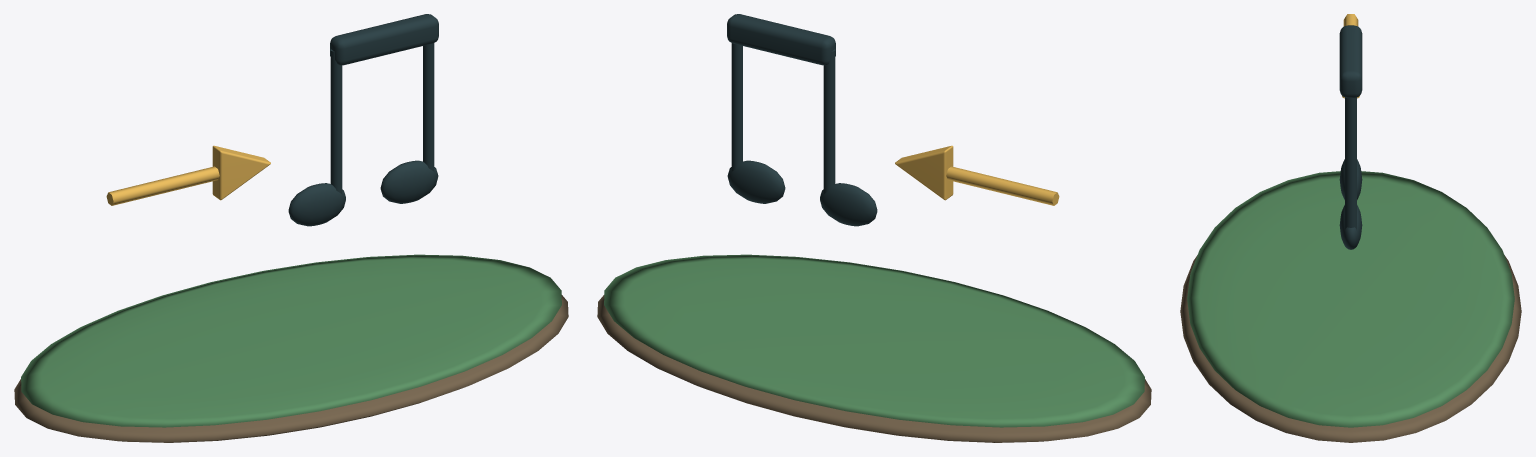
File: quick-music.glb
The picture shows the model from 3 angles, left to right: view 1: azimuth 30°, elevation 25°; view 2: azimuth 150°, elevation 25°; view 3: azimuth 270°, elevation 25°; orthographic projection.
Visible parts, largest first — view 1: quick-music_surface_01, quick-music_surface_03, quick-music_surface_00, quick-music_surface_02; view 2: quick-music_surface_01, quick-music_surface_03, quick-music_surface_00, quick-music_surface_02; view 3: quick-music_surface_01, quick-music_surface_00, quick-music_surface_03.
Part boxes in pixels (bbox=[...]): quick-music_surface_01: bbox=[21, 254, 561, 427]; quick-music_surface_03: bbox=[288, 14, 438, 226]; quick-music_surface_00: bbox=[14, 295, 568, 442]; quick-music_surface_02: bbox=[106, 145, 270, 205]; quick-music_surface_01: bbox=[604, 254, 1144, 427]; quick-music_surface_03: bbox=[727, 14, 877, 226]; quick-music_surface_00: bbox=[597, 295, 1151, 442]; quick-music_surface_02: bbox=[895, 145, 1059, 205]; quick-music_surface_01: bbox=[1187, 171, 1514, 427]; quick-music_surface_00: bbox=[1180, 255, 1521, 442]; quick-music_surface_03: bbox=[1339, 25, 1362, 249].
Bounding box in the file's own units: 4.56 × 2.63 × 2.5.
